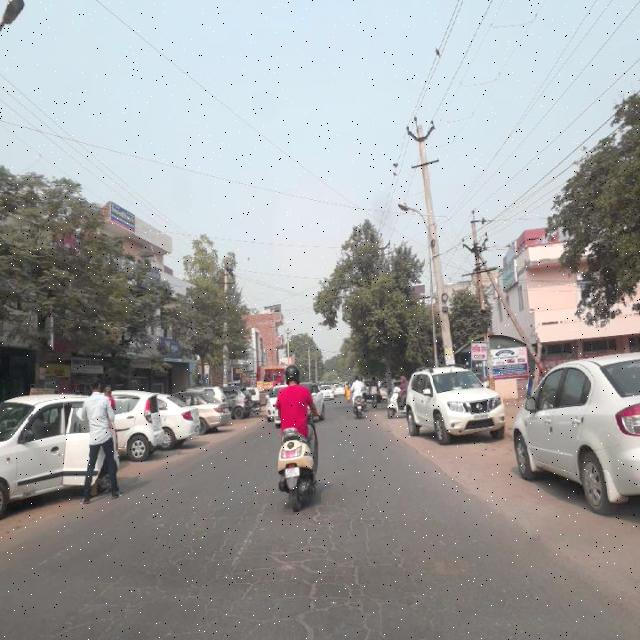D20: (98, 503, 420, 638)
D44: (228, 498, 271, 572)
